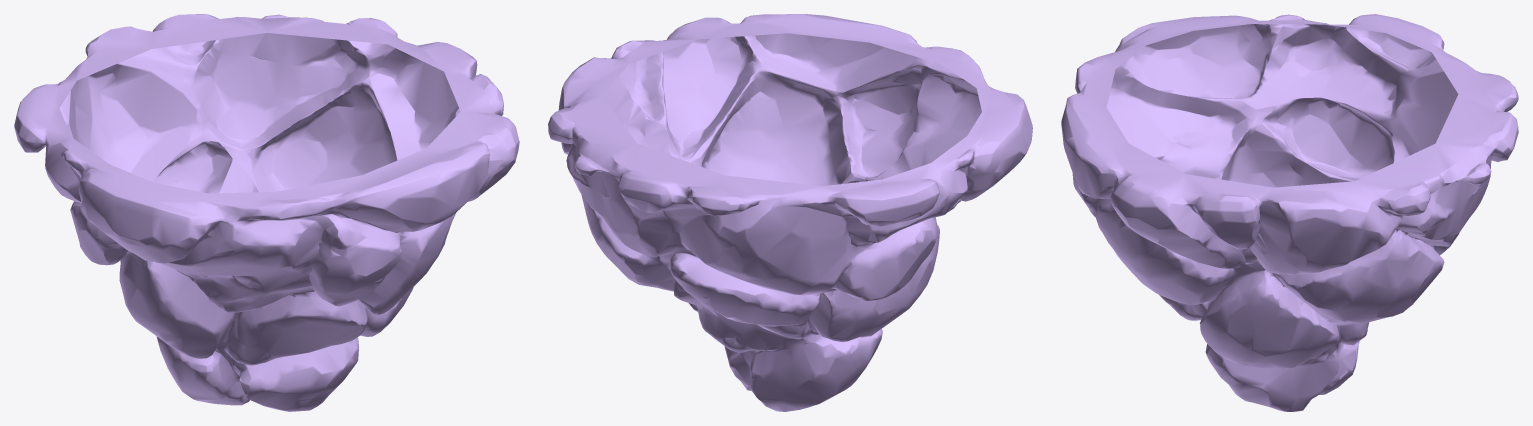
File: island_4_LOD2.fbx
3 views of the same model, side by side, from view 1: azimuth 30°, elevation 25°; view 2: azimuth 150°, elevation 25°; view 3: azimuth 270°, elevation 25° (orthographic). The views are drawn at different scales.
Visible parts, largest first — view 1: island_4_LOD2; view 2: island_4_LOD2; view 3: island_4_LOD2.
Part boxes in pixels (bbox=[...]): island_4_LOD2: bbox=[14, 14, 519, 411]; island_4_LOD2: bbox=[548, 14, 1032, 411]; island_4_LOD2: bbox=[1061, 14, 1518, 411].
Size of the model in its own units: 1530 by 1067 by 1496.
